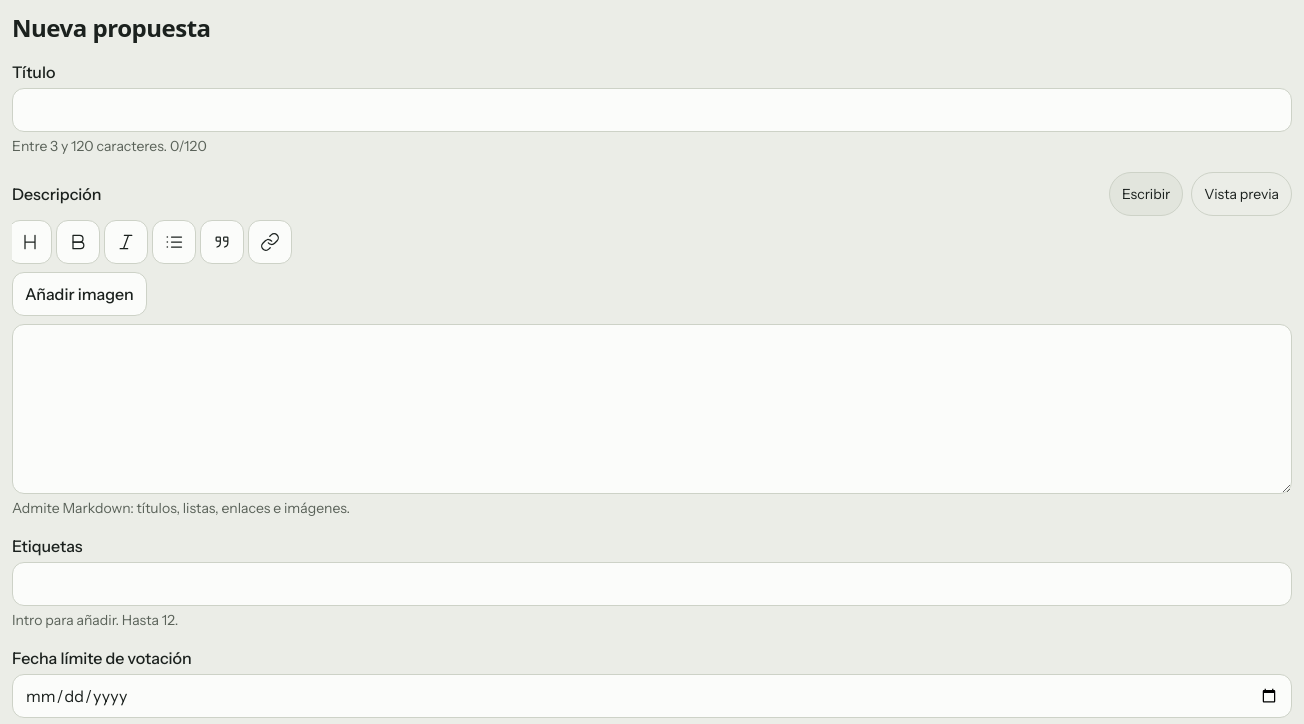
Test: MarkdownToolbar › offers a link button, so [](url) is never something to memorise
The width and height of the screenshot is (1304, 724).
Click the button named "Enlace" at {"x": 270, "y": 242}, box left=248, top=220, right=292, bottom=264
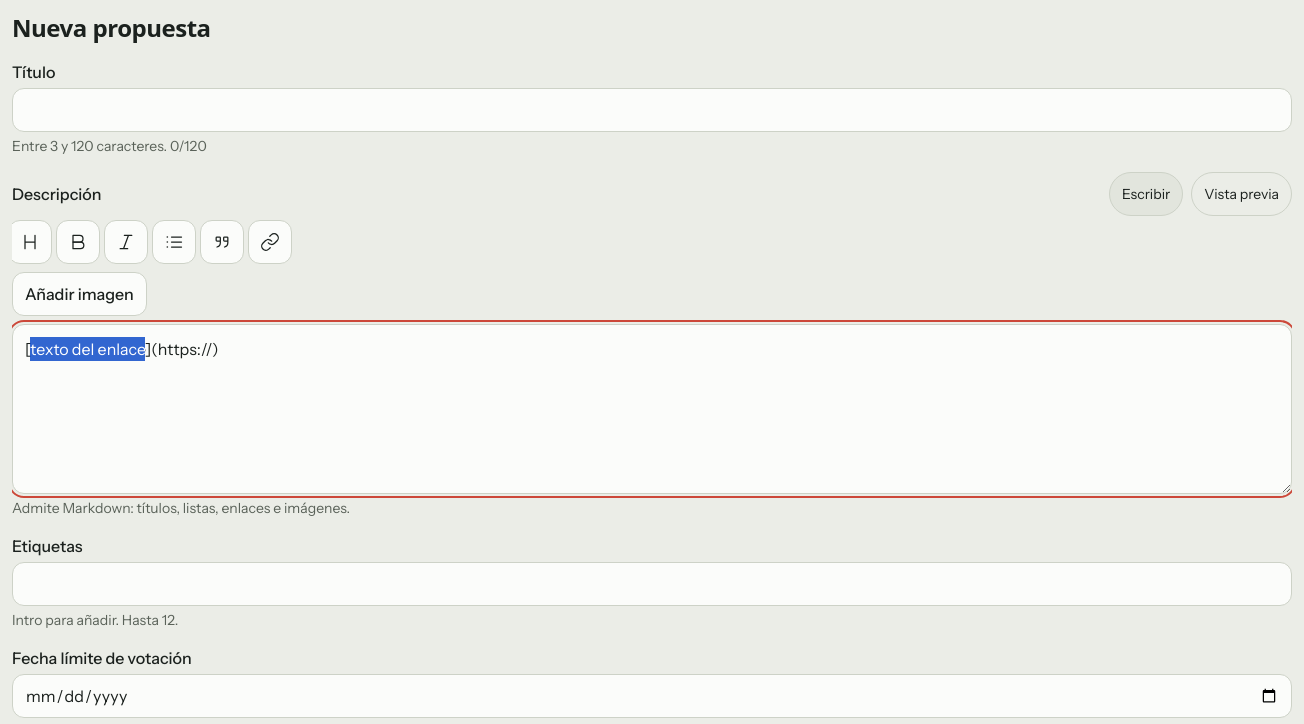
expect the text box labelled "Descripción" holds "[texto del enlace](https://)": met, box left=12, top=324, right=1292, bottom=494
